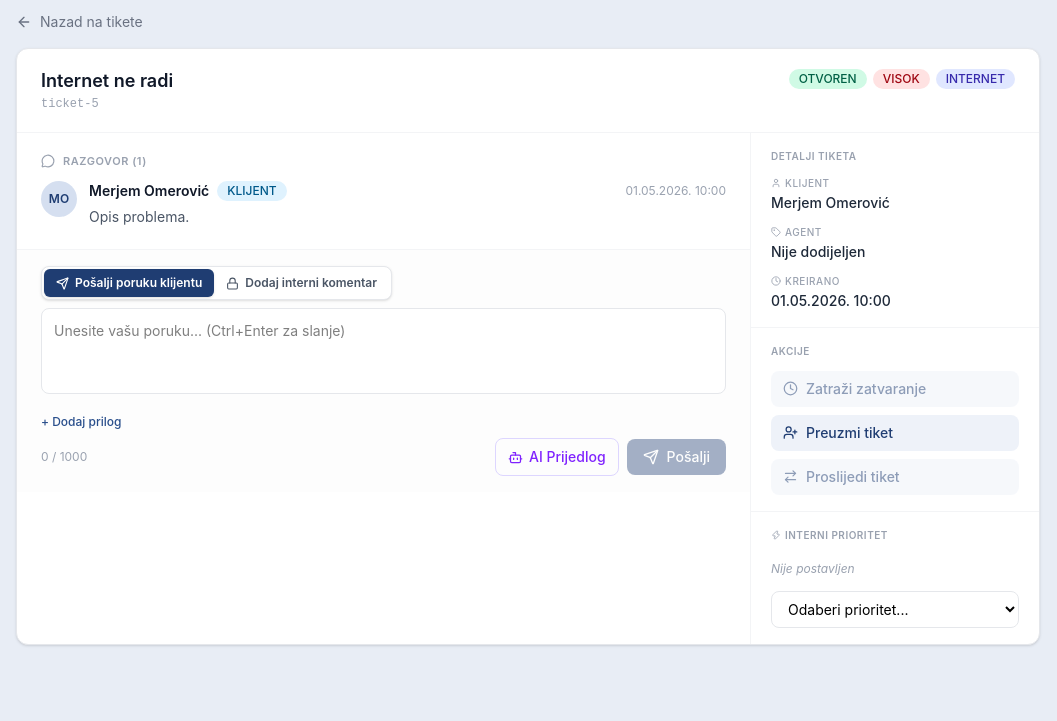
TicketDetail — PB-62 self-assign › shows error message when self-assign fails (backend reject — already assigned)
This screenshot has width=1057, height=721.
Click the button "Preuzmi tiket" at coordinates (895, 433), box [771,415,1019,451]
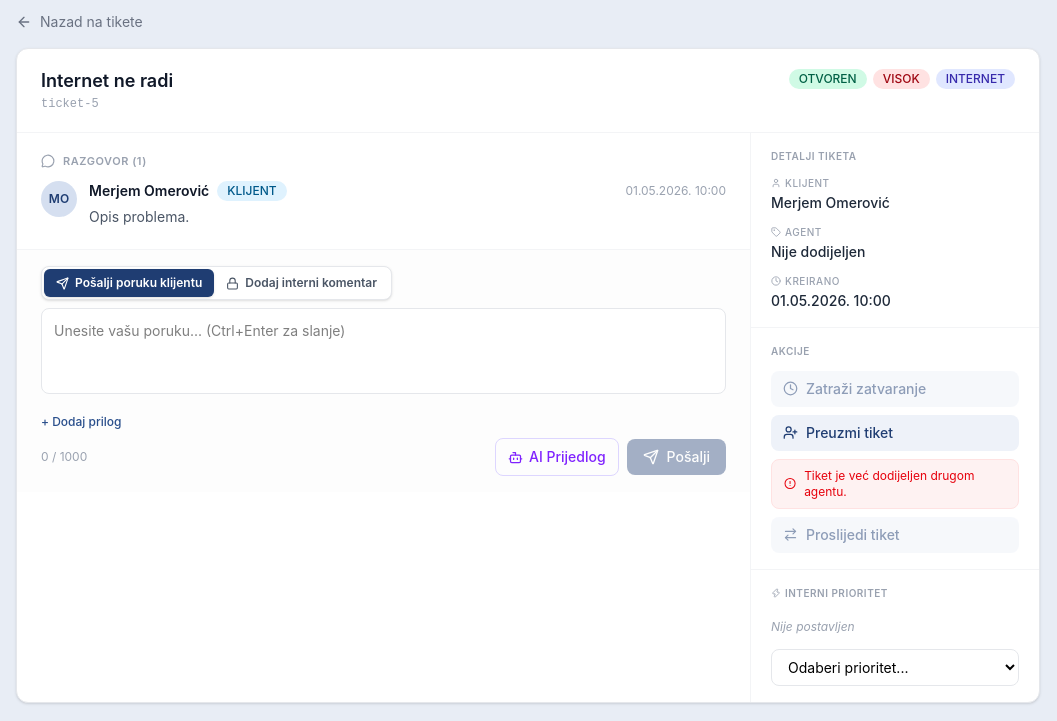
Now the message shows "već dodijeljen", box [804,468,974,499]
